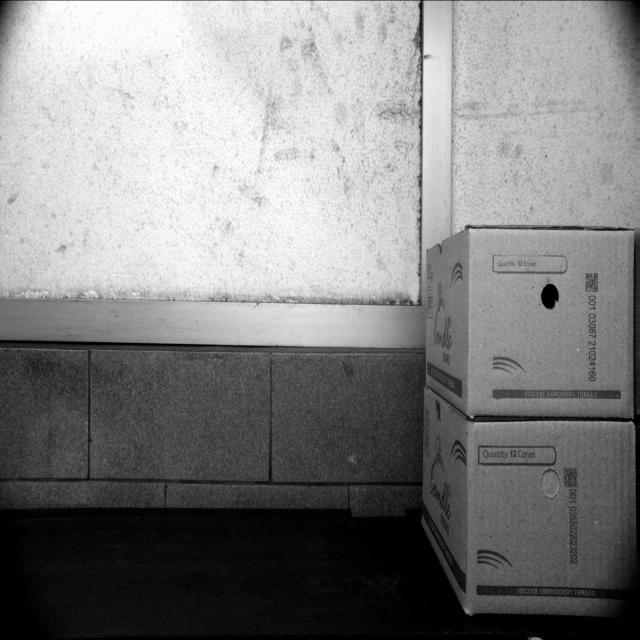cardboxes: (468, 223, 640, 419), (470, 423, 636, 615)
